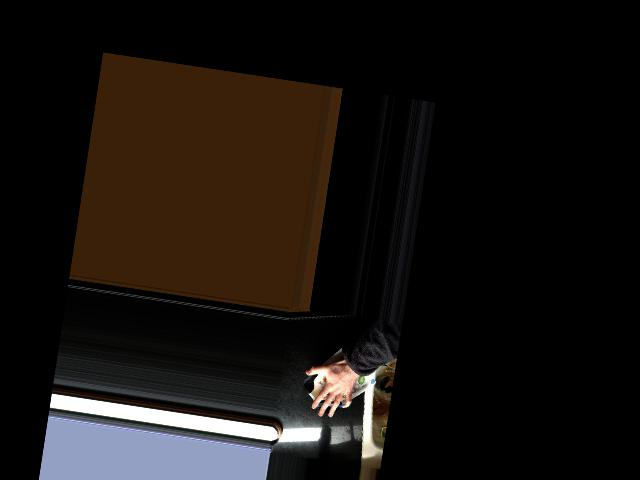cheese: (297, 338, 383, 423)
